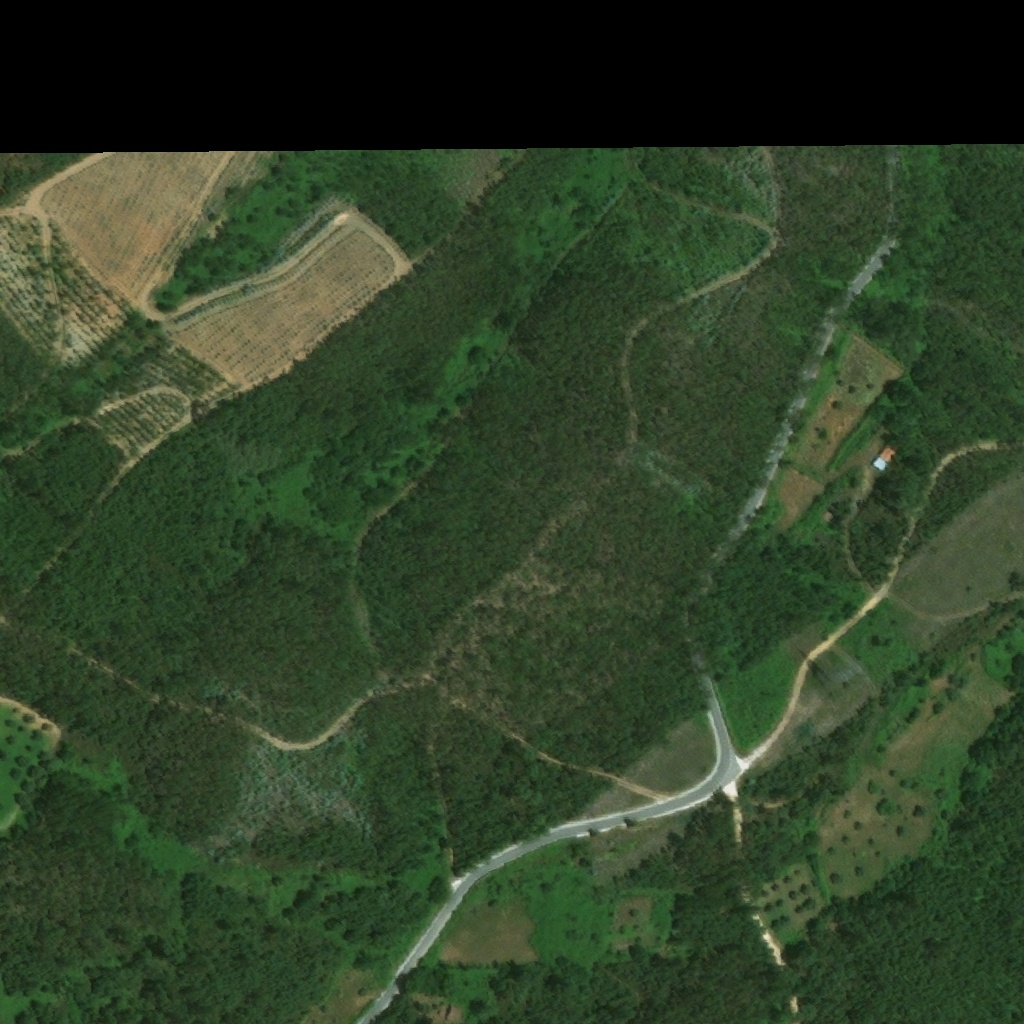0 no-damage: (432, 1001, 465, 1023), (878, 440, 903, 464), (820, 511, 836, 527), (872, 458, 889, 472)
